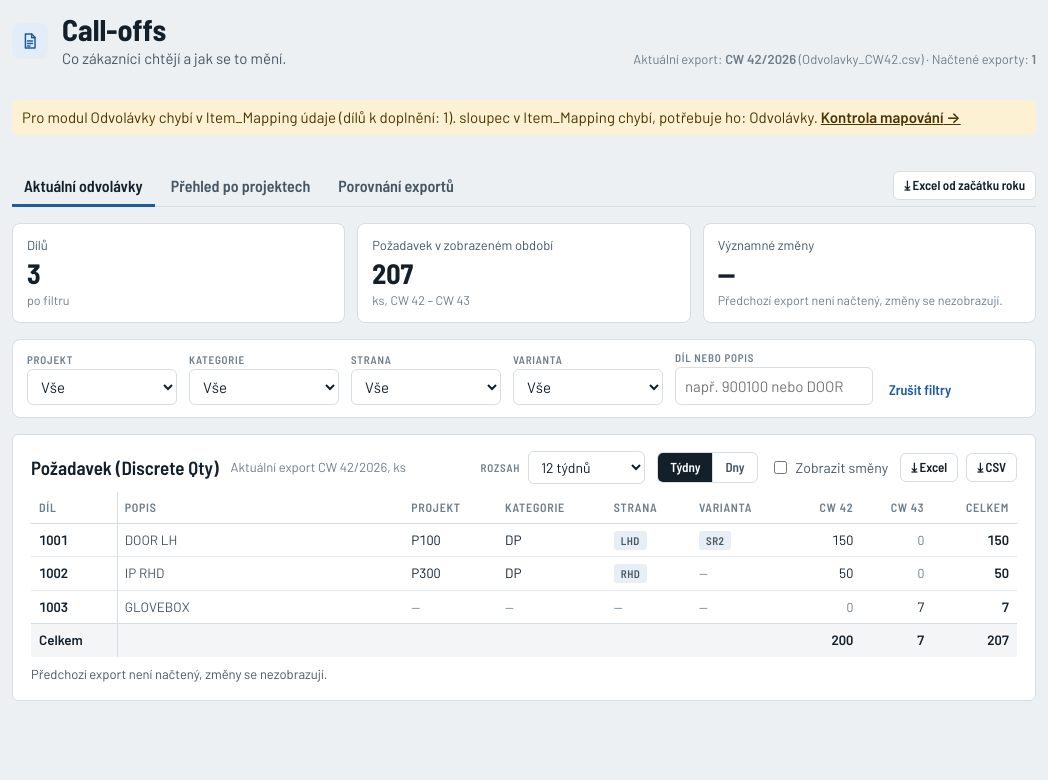
Test: CallOffsPage › porovnání s jedním exportem vysvětlí, co chybí
Click the tab "Porovnání exportů" at (396, 186), box [326,166,466,207]
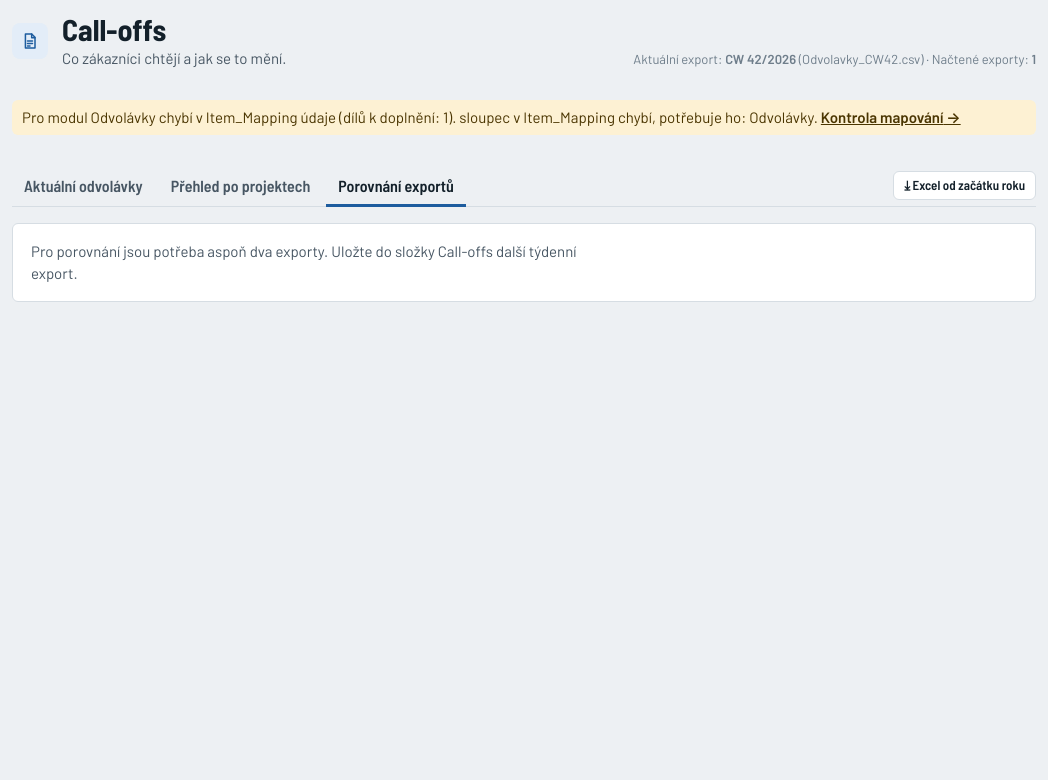
Check: the text "aspoň dva exporty" is shown, box [31,242,576,282]
